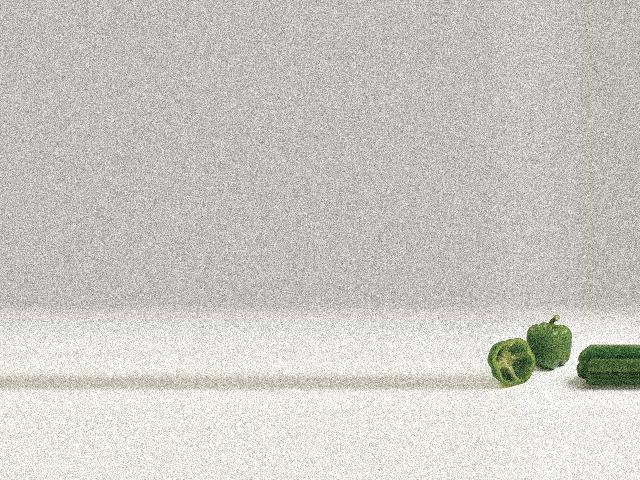bell_pepper: (485, 333, 538, 389)
